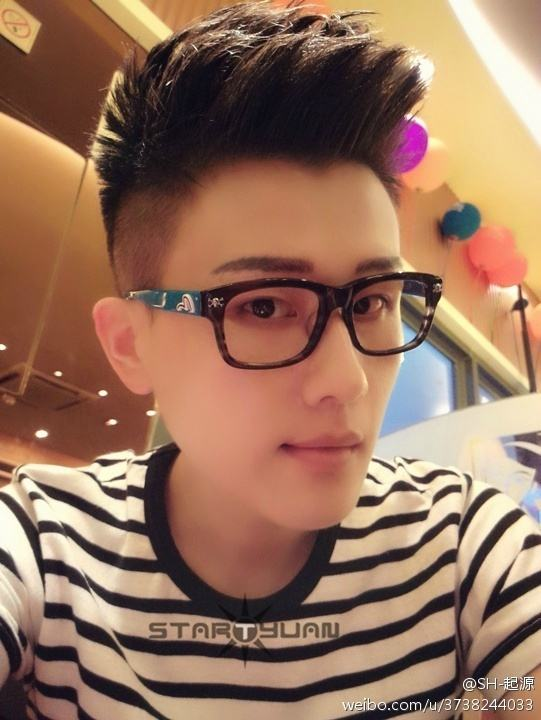person: (47, 44, 465, 720)
